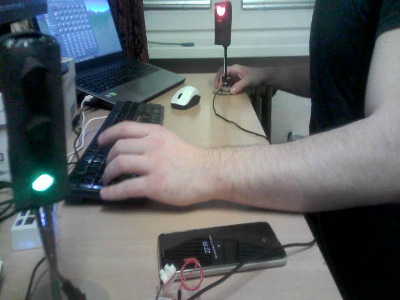trafficlight_green: (10, 42, 64, 201)
trafficlight_red: (214, 4, 228, 42)
